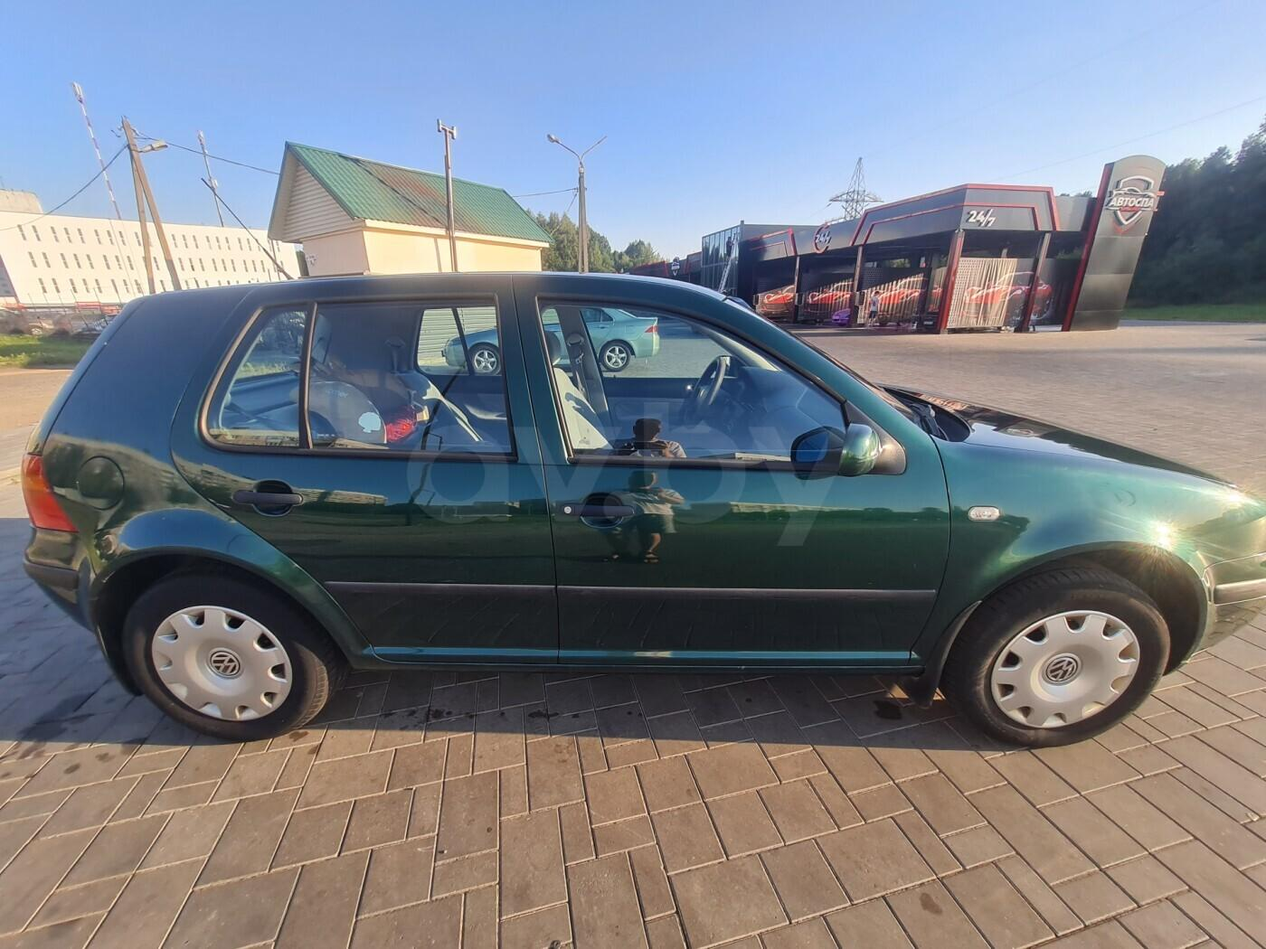Golf_1997-2006: (25, 264, 1266, 740)
